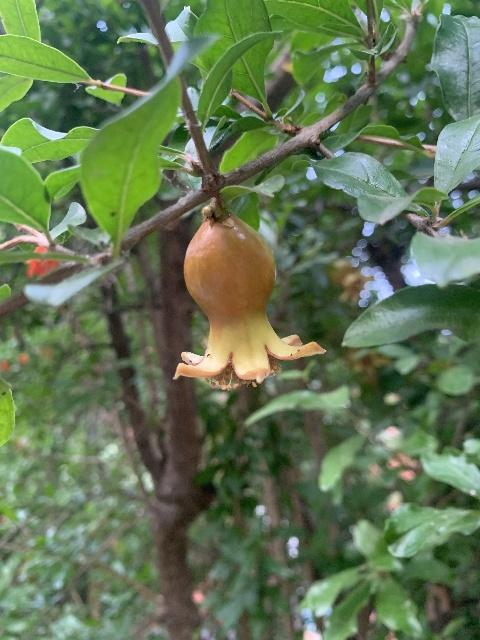early-fruit: (171, 213, 326, 390)
